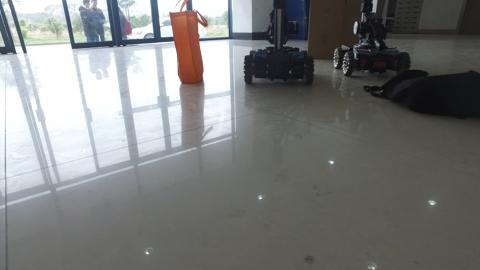bag: (166, 1, 206, 87)
chariot: (332, 1, 413, 76), (244, 1, 315, 85)
